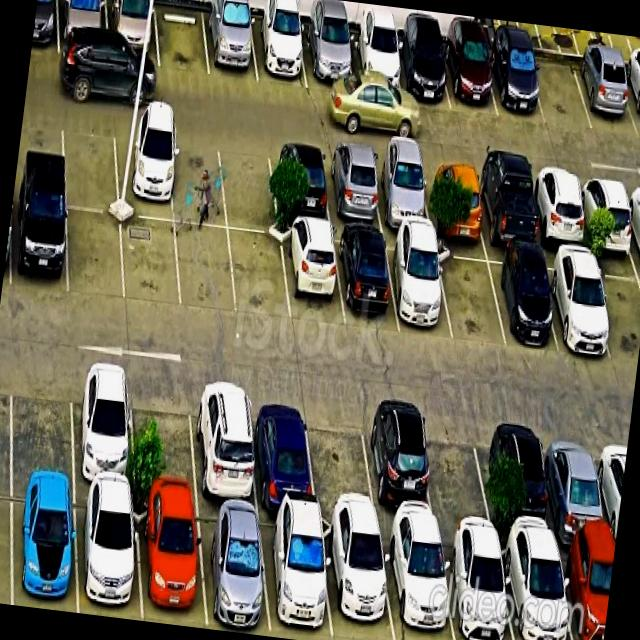car: (0, 496, 80, 611), (128, 508, 205, 626), (196, 516, 272, 635), (180, 410, 258, 520), (259, 523, 332, 640), (69, 504, 141, 618), (322, 534, 398, 640), (64, 396, 138, 504), (359, 421, 432, 530), (248, 420, 315, 532), (384, 538, 457, 640), (484, 426, 550, 537), (540, 441, 607, 544), (551, 258, 616, 364), (502, 550, 578, 640), (446, 543, 515, 640), (388, 239, 454, 339), (111, 120, 178, 214), (496, 252, 558, 353), (478, 162, 540, 262), (425, 150, 486, 250), (338, 229, 398, 329), (277, 228, 342, 320), (265, 140, 331, 228), (578, 175, 636, 274), (529, 172, 587, 269), (394, 12, 452, 108), (8, 204, 70, 292), (490, 20, 544, 119), (349, 4, 404, 100), (576, 31, 632, 122), (301, 0, 357, 91), (444, 20, 498, 113), (201, 0, 260, 84), (372, 152, 428, 239), (252, 0, 308, 85), (325, 147, 380, 230), (105, 0, 160, 61), (56, 0, 109, 58)
free: (2, 378, 79, 496), (127, 401, 198, 509), (302, 424, 376, 526), (420, 427, 488, 532), (436, 254, 506, 346), (61, 212, 128, 300), (169, 130, 229, 228), (116, 212, 180, 302), (222, 136, 283, 228), (56, 126, 120, 212), (224, 226, 286, 314), (530, 36, 588, 122), (172, 221, 232, 303), (152, 0, 213, 76)
